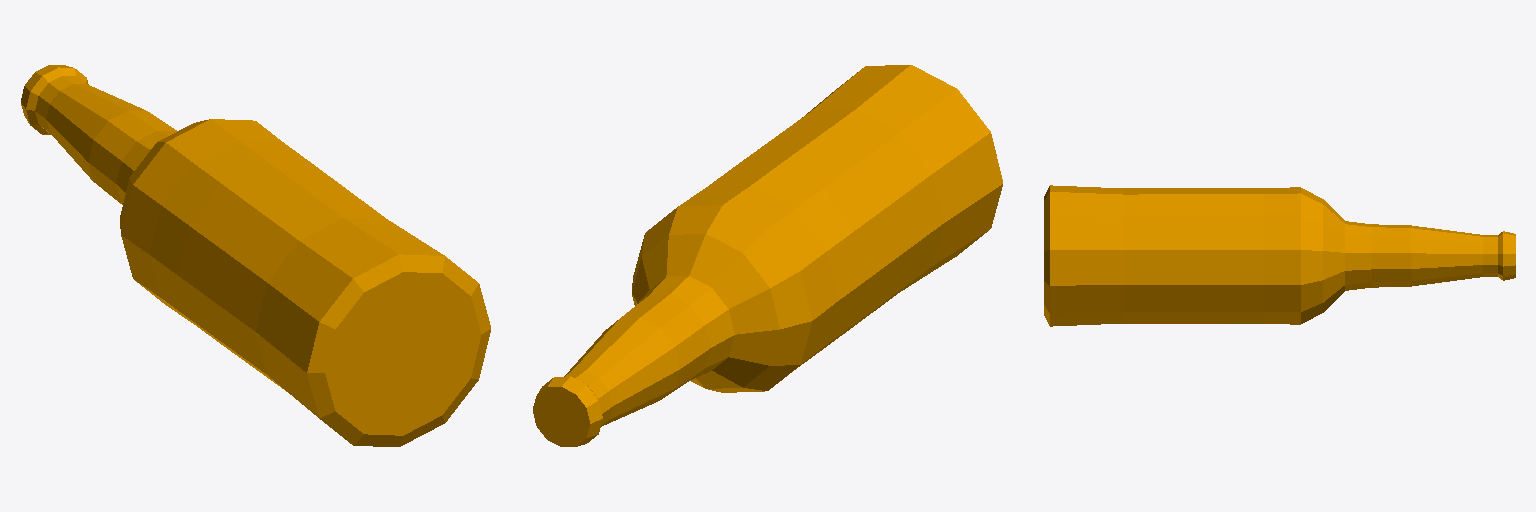
URDF robot description (beer_bottle):
<robot name="beer_bottle">
  <link name="link">
    <collision name="collision">
      <geometry>
        <mesh filename="model://beer_bottle/meshes/beerbottle.obj"/>
      </geometry>
    </collision>
    <visual name="visual">
      <geometry>
        <mesh filename="model://beer_bottle/meshes/beerbottle.obj"/>
      </geometry>
    </visual>
  </link>
</robot>

--- What the picture shows (computed from the rendered views, not written in the file) ---
The picture shows the robot from 3 angles, left to right: view 1: azimuth 30°, elevation 25°; view 2: azimuth 150°, elevation 25°; view 3: azimuth 270°, elevation 25°; orthographic projection.
Robot: beer_bottle — 1 links, 0 joints (none); root link link; default pose: all joints at 0.
Links seen in each view (by area): view 1: link; view 2: link; view 3: link.
Link boxes in pixels (left/top/right/bottom): link: left=21, top=65, right=490, bottom=446; link: left=533, top=65, right=1002, bottom=446; link: left=1044, top=185, right=1515, bottom=326.
Bounding box of the posed robot: 1.84 × 6.12 × 1.84 m (x, y, z).
1 mesh visuals loaded from 1 distinct referenced files (1 OBJ).
